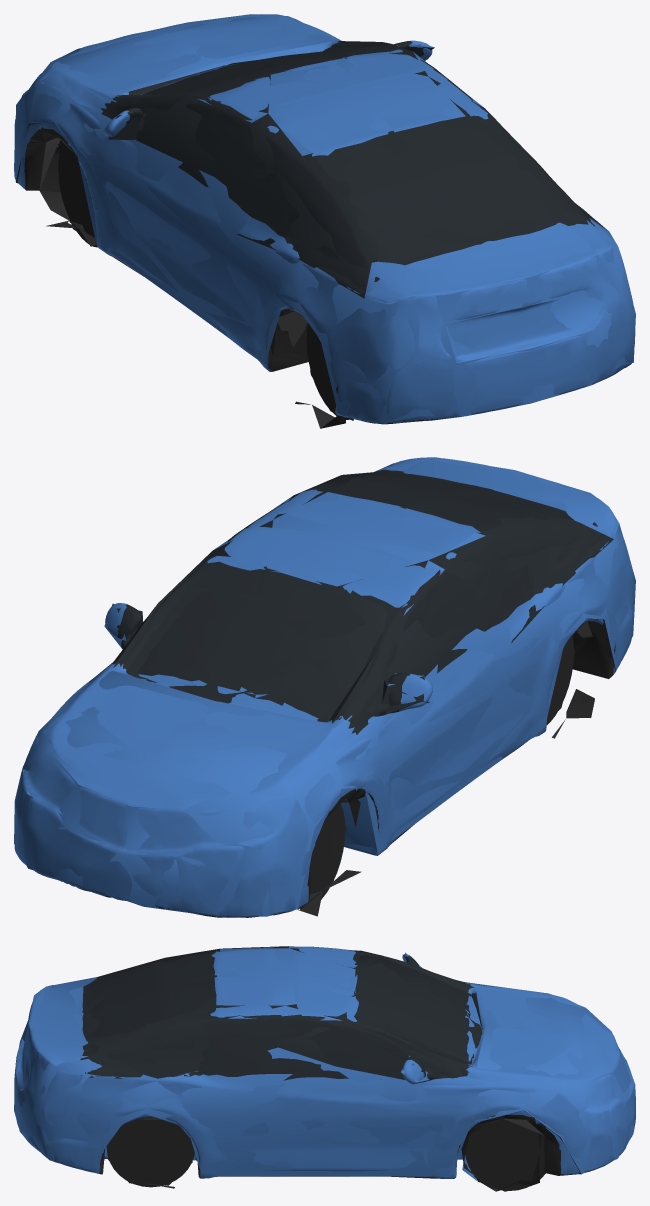
The model's file is hyundai-azera.glb.
The picture shows the model from 3 angles, top to bottom: view 1: azimuth 30°, elevation 25°; view 2: azimuth 150°, elevation 25°; view 3: azimuth 270°, elevation 25°; orthographic projection. The views are drawn at different scales.
Visible parts, largest first — view 1: body, far; view 2: body, far; view 3: body, far.
Boxes of the visible parts, bbox=[...] form: body: bbox=[14, 14, 635, 428]; far: bbox=[15, 14, 635, 423]; body: bbox=[14, 457, 634, 917]; far: bbox=[14, 457, 635, 916]; body: bbox=[14, 946, 635, 1191]; far: bbox=[14, 946, 635, 1191].
Size of the model in its own units: 2.21 by 1.52 by 4.89.
